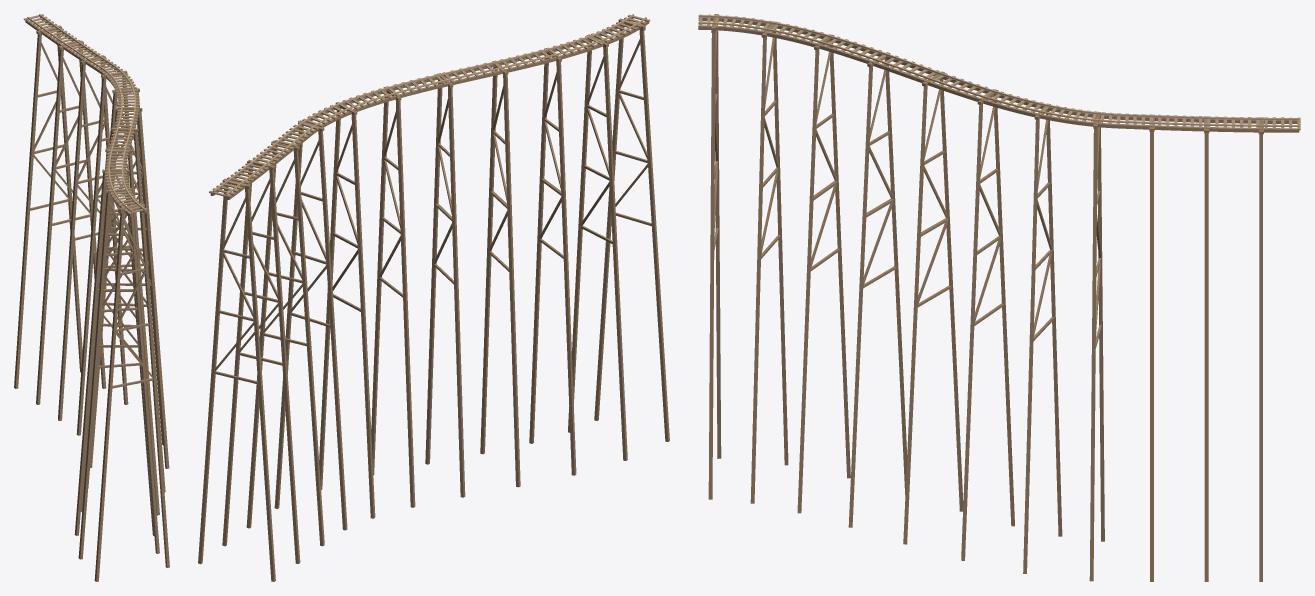
The model's file is MinecartMayhemRailBendR.glb.
3 renders of one model, left to right at view 1: azimuth 30°, elevation 25°; view 2: azimuth 150°, elevation 25°; view 3: azimuth 270°, elevation 25°, orthographic. The views are drawn at different scales.
Visible parts, largest first — view 1: Trestle, Ties, Rails; view 2: Trestle, Ties, Rails; view 3: Trestle, Rails, Ties.
Part boxes in pixels (<box>): Trestle: <box>14,17,169,581</box>; Ties: <box>23,14,147,213</box>; Rails: <box>27,14,144,212</box>; Trestle: <box>198,17,669,581</box>; Ties: <box>209,14,650,197</box>; Rails: <box>213,14,646,195</box>; Trestle: <box>698,14,1299,581</box>; Rails: <box>698,15,1299,126</box>; Ties: <box>699,14,1300,130</box>.
Bounding box in the file's own units: 54.16 × 92.78 × 110.
